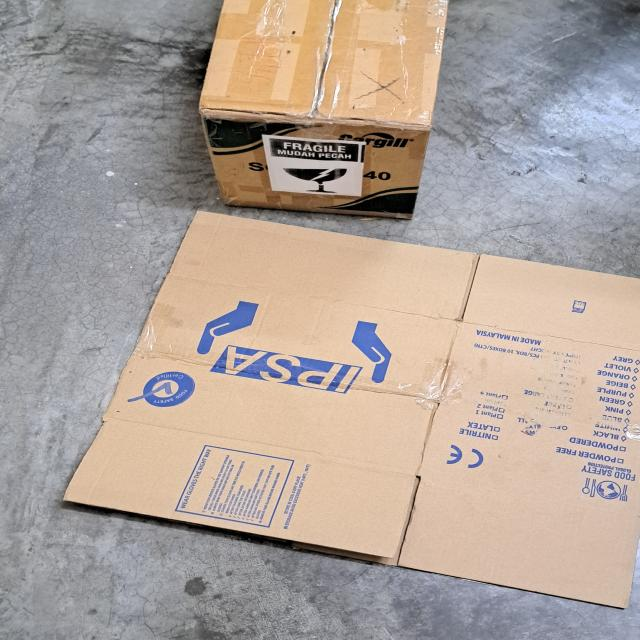cardboard: (59, 208, 640, 611), (196, 0, 445, 223)
